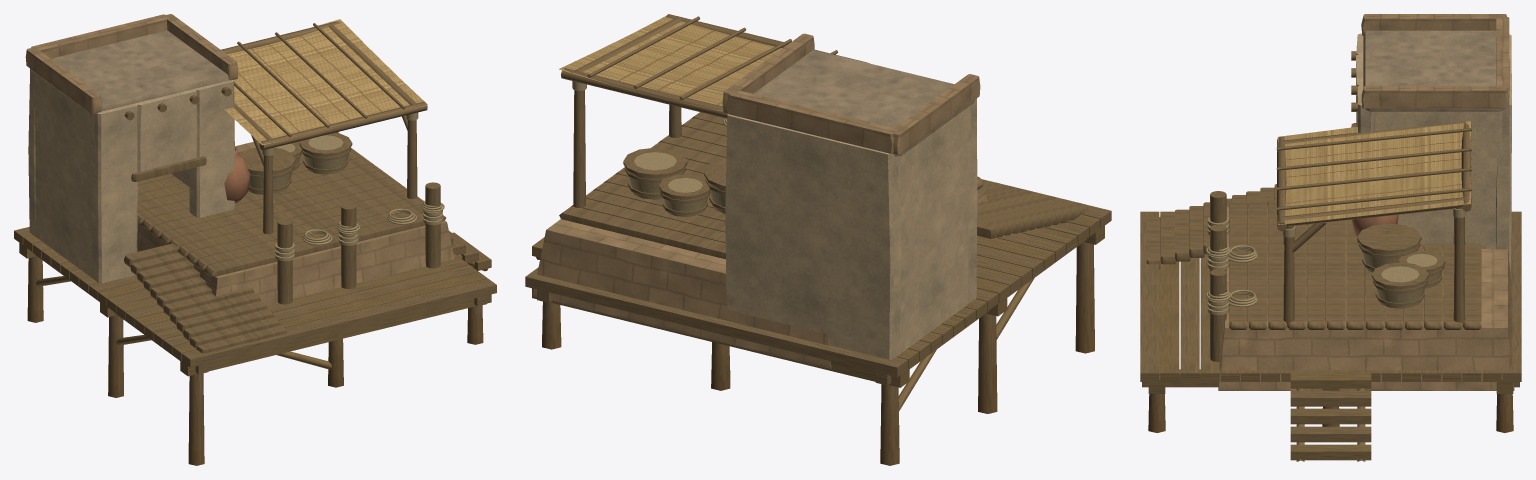
The model's file is harbor.glb.
3 renders of one model, left to right at view 1: azimuth 30°, elevation 25°; view 2: azimuth 150°, elevation 25°; view 3: azimuth 270°, elevation 25°, orthographic. The views are drawn at different scales.
Parts seen in each view (by area): view 1: original-harbor-worn-timber, original-harbor-warm-clay-plaster, game-shore-timber-foundation, original-harbor-game-raw-brick-facing, original-harbor-laid-reed-thatch, original-harbor-alluvial-earth, original-harbor-reed-mat, original-harbor-fired-pottery; view 2: original-harbor-warm-clay-plaster, game-shore-timber-foundation, original-harbor-game-raw-brick-facing, original-harbor-worn-timber, original-harbor-laid-reed-thatch, original-harbor-alluvial-earth, original-harbor-reed-mat; view 3: original-harbor-worn-timber, original-harbor-game-raw-brick-facing, game-shore-timber-foundation, original-harbor-laid-reed-thatch, original-harbor-warm-clay-plaster, original-harbor-alluvial-earth, original-harbor-reed-mat, original-harbor-fired-pottery.
Boxes of the visible parts, x1,y1,x2,y2 form: original-harbor-worn-timber: (124,21,446,353); original-harbor-warm-clay-plaster: (28,68,235,283); game-shore-timber-foundation: (14,227,496,465); original-harbor-game-raw-brick-facing: (25,14,454,305); original-harbor-laid-reed-thatch: (224,19,427,144); original-harbor-alluvial-earth: (30,30,229,115); original-harbor-reed-mat: (248,112,444,261); original-harbor-fired-pottery: (224,146,250,203); original-harbor-warm-clay-plaster: (725,98,977,359); game-shore-timber-foundation: (525,179,1111,465); original-harbor-game-raw-brick-facing: (532,33,987,368); original-harbor-worn-timber: (559,14,1088,259); original-harbor-laid-reed-thatch: (559,16,869,111); original-harbor-alluvial-earth: (753,50,974,156); original-harbor-reed-mat: (572,81,727,216); original-harbor-worn-timber: (1146,51,1481,367); original-harbor-game-raw-brick-facing: (1218,14,1514,390); game-shore-timber-foundation: (1140,211,1521,461); original-harbor-laid-reed-thatch: (1277,121,1471,224); original-harbor-warm-clay-plaster: (1356,33,1511,278); original-harbor-alluvial-earth: (1363,30,1504,111); original-harbor-reed-mat: (1205,208,1465,315); original-harbor-fired-pottery: (1352,214,1398,236).
Bounding box in the file's own units: 6.43 × 4.9 × 5.29.
Materials: 8 (7 with a texture image).
